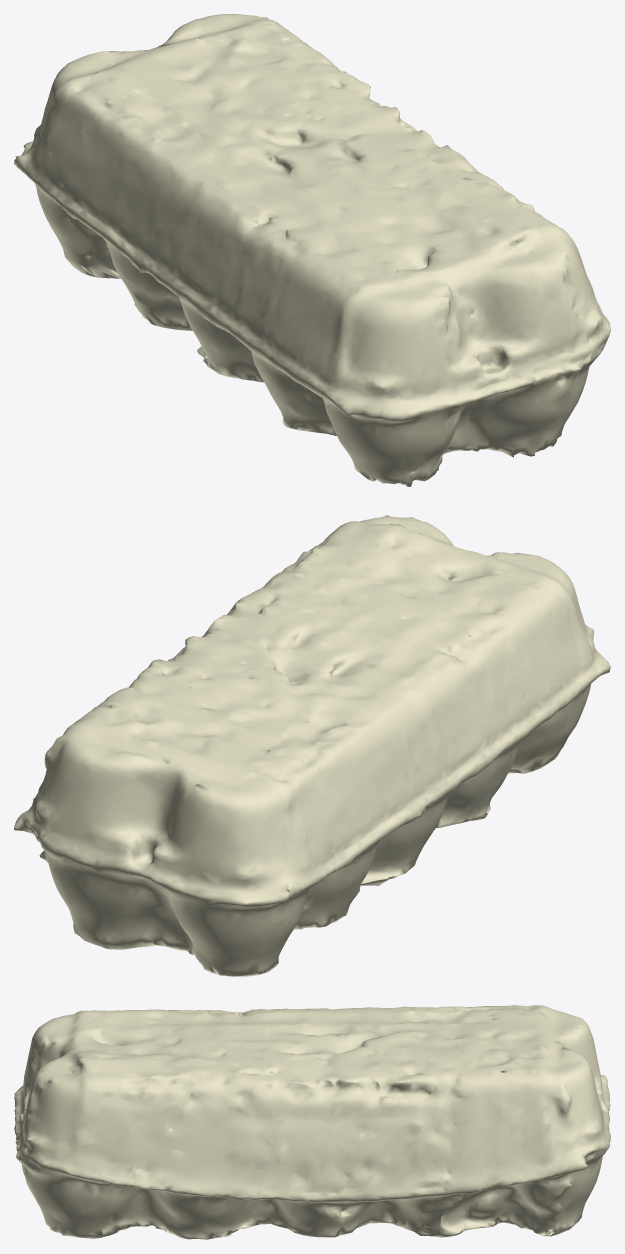
The model's file is eggs.fbx.
The picture shows the model from 3 angles, top to bottom: view 1: azimuth 30°, elevation 25°; view 2: azimuth 150°, elevation 25°; view 3: azimuth 270°, elevation 25°; orthographic projection. The views are drawn at different scales.
Visible parts, largest first — view 1: Eierschachtel; view 2: Eierschachtel; view 3: Eierschachtel.
Boxes of the visible parts, x1,y1,x2,y2 form: Eierschachtel: (14,14,610,486); Eierschachtel: (14,515,610,976); Eierschachtel: (14,1005,610,1239).
Size of the model in its own units: 282 by 187 by 608.
